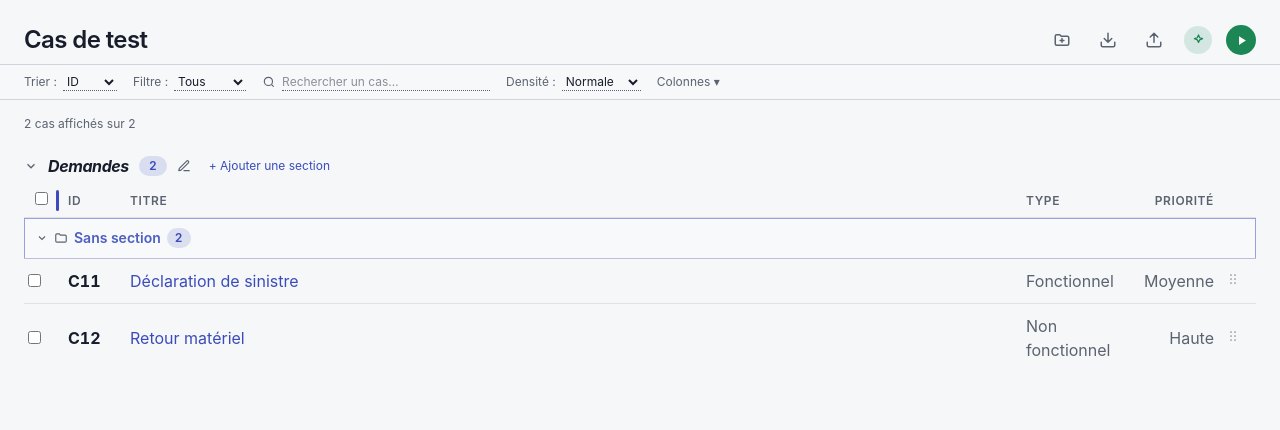
Test case: la sélection › « tout sélectionner » ne porte que sur SA section
What coordinates should you click on to do the following:
click the checkbox named "Sélectionner les cas de Demandes"
I would click on:
 (42, 198)
Its box is [35,192,48,205].
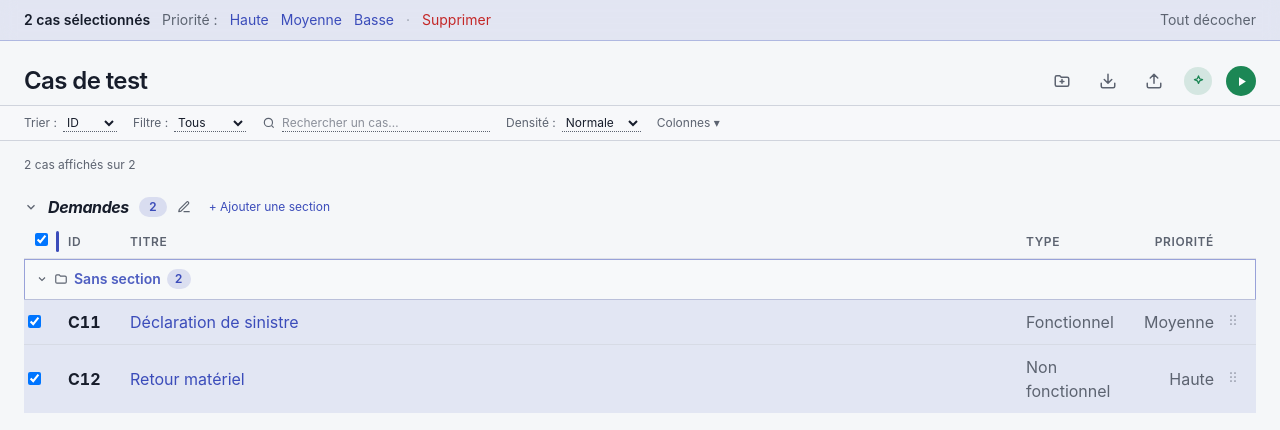
Expected: the text "2 cas sélectionnés" is shown, [24,10,150,30]
